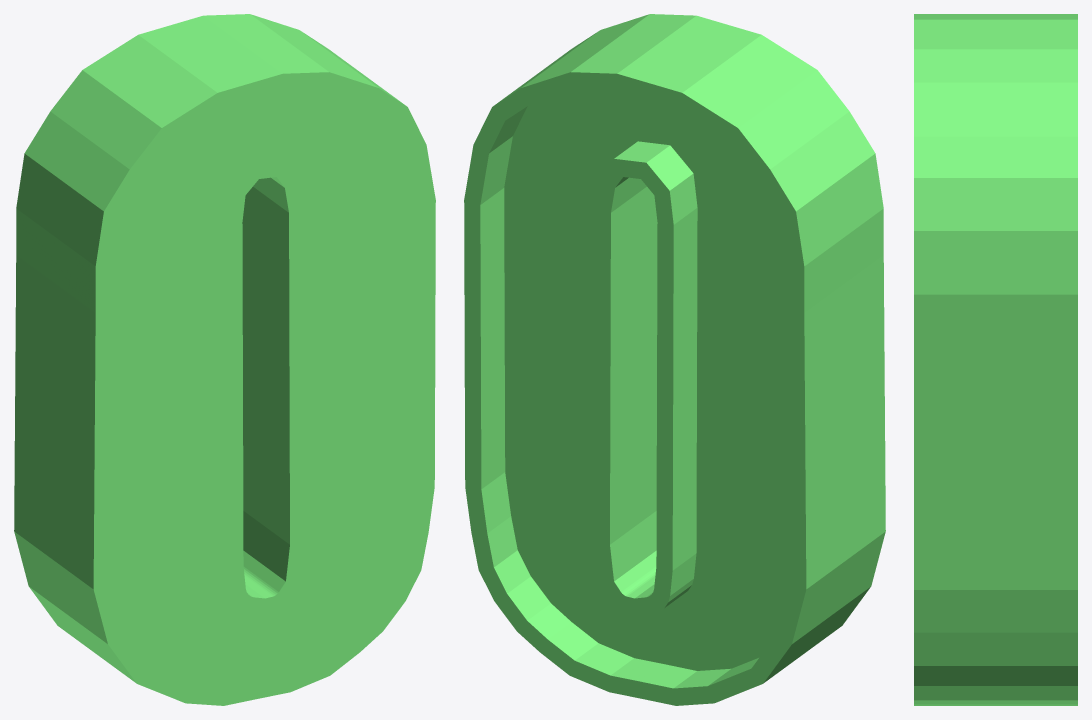
3 renders of one model, left to right at view 1: azimuth 30°, elevation 25°; view 2: azimuth 150°, elevation 25°; view 3: azimuth 270°, elevation 25°, orthographic. The views are drawn at different scales.
Visible parts, largest first — view 1: Letter_O; view 2: Letter_O; view 3: Letter_O.
Boxes of the visible parts, x1,y1,x2,y2 form: Letter_O: (14, 14, 435, 705); Letter_O: (464, 14, 885, 705); Letter_O: (914, 14, 1077, 705).
Bounding box in the file's own units: 1.45 × 2.51 × 0.5825.
